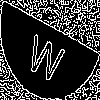W: (25, 24, 68, 85)
